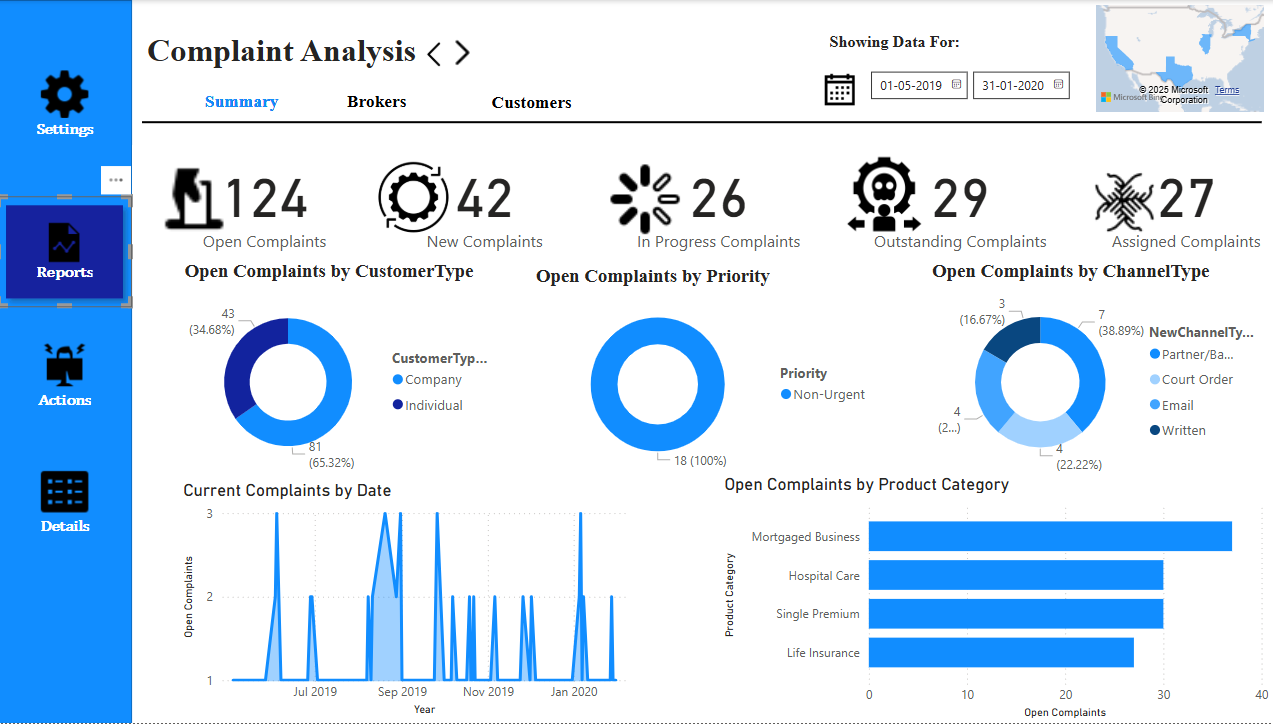

Layout of this report page (visuals, bound fields, positions):
{"tool":"powerbi","page":{"name":"Reports","canvas":[1280,720],"ordinal":0},"visuals":[{"type":"shape","box":[9.6,0,134.5,720.4],"z":0},{"type":"actionButton","title":"Customers","box":[465.2,82.4,153.7,41.2],"z":0,"group":"g1"},{"type":"textbox","box":[153.7,26.1,289.5,64.5],"z":1000},{"type":"actionButton","title":"Brokers","box":[311.5,81,153.7,41.2],"z":1000,"group":"g1"},{"type":"textbox","box":[834.1,27.1,202.9,45.1],"z":2000},{"type":"actionButton","title":"Summary","box":[177,81,153.7,41.2],"z":2000,"group":"g1"},{"type":"actionButton","title":"Summary","box":[177,81,153.7,41.2],"z":2000,"group":"g2"},{"type":"slicer","fields":{"Values":["Sheet1.ComplaintDate"]},"box":[866.8,60.9,231.1,50.7],"z":3000},{"type":"shape","box":[154.3,110,1114.3,24.3],"z":4000},{"type":"card","fields":{"Values":["Sheet1.Open Complaints"]},"box":[144.3,144.3,264.3,114.3],"z":5000},{"type":"card","fields":{"Values":["Sheet1.New Complaints"]},"box":[362.9,144.3,264.3,114.3],"z":6000},{"type":"card","fields":{"Values":["Sheet1.In Progress Complaints"]},"box":[627.1,144.3,202.9,114.3],"z":7000},{"type":"card","fields":{"Values":["Sheet1.Outstanding Complaints"]},"box":[874.3,144.3,188.6,114.3],"z":8000},{"type":"card","fields":{"Values":["Sheet1.Assigned Complaints"]},"box":[1107.1,144.3,172.9,114.3],"z":9000},{"type":"donutChart","title":"Open Complaints by CustomerType","fields":{"Y":["Sheet1.Open Complaints"],"Category":["Sheet1.CustomerType (groups)"]},"box":[191.4,258.6,318.6,222.9],"z":10000},{"type":"donutChart","title":"Open Complaints by Priority","fields":{"Y":["Sheet1.Open Complaints"],"Category":["Sheet1.Priority"]},"box":[541.4,264.3,347.1,217.1],"z":11000},{"type":"donutChart","title":"Open Complaints by ChannelType","fields":{"Y":["Sheet1.Open Complaints"],"Category":["Sheet1.NewChannelType"]},"box":[935.7,258.6,332.9,222.9],"z":12000},{"type":"clusteredBarChart","fields":{"Category":["Sheet1.Product Category"],"Y":["Sheet1.Open Complaints"]},"box":[728.6,472,551.6,248.4],"z":13000},{"type":"filledMap","fields":{"Category":["Sheet1.State"]},"box":[1097.8,0,178.1,116.1],"z":14000},{"type":"areaChart","title":"Current Complaints by Date","fields":{"Category":["Sheet1.ComplaintDate.Variation.Date Hierarchy.Year","Sheet1.ComplaintDate.Variation.Date Hierarchy.Quarter","Sheet1.ComplaintDate.Variation.Date Hierarchy.Month","Sheet1.ComplaintDate.Variation.Date Hierarchy.Day"],"Y":["Sheet1.Open Complaints"]},"box":[190.6,477.2,464.7,239.3],"z":15000},{"type":"group","id":"g1","title":"inactive button","box":[177,81,441.9,42.5],"z":16000},{"type":"group","id":"g2","title":"active button","box":[177,81,440.5,41.2],"z":17000},{"type":"image","box":[1087.2,160,90.3,82.1],"z":18000},{"type":"image","box":[153.8,160,98.5,82.1],"z":19000},{"type":"image","box":[605.1,153.8,100.5,88.2],"z":20000},{"type":"image","box":[821.7,63.1,53,53],"z":21000},{"type":"image","box":[841,149.7,104.6,88.2],"z":22000},{"type":"image","box":[363.1,153.8,123.1,84.1],"z":23000},{"type":"image","box":[424,35.7,41.2,36],"z":24000},{"type":"image","box":[454.2,32.9,38.4,39.8],"z":25000},{"type":"actionButton","box":[10,47.3,134.3,110.7],"z":37000},{"type":"actionButton","box":[10,174.2,134.3,110.7],"z":38000},{"type":"actionButton","box":[10,317.2,134.3,110.7],"z":39000},{"type":"actionButton","box":[10,442.8,134.3,110.7],"z":40000}]}

Visuals, with their boxes on the page's 1280x720 design canvas (x1, y1, x2, y2). These are canvas units, not pixel positions in the 1273x724 screenshot, which may show the page scaled, cropped or inside an application window:
shape: {"left": 10, "top": 0, "right": 144, "bottom": 720}
"Customers" actionButton: {"left": 465, "top": 82, "right": 619, "bottom": 124}
textbox: {"left": 154, "top": 26, "right": 443, "bottom": 91}
"Brokers" actionButton: {"left": 312, "top": 81, "right": 465, "bottom": 122}
textbox: {"left": 834, "top": 27, "right": 1037, "bottom": 72}
"Summary" actionButton: {"left": 177, "top": 81, "right": 331, "bottom": 122}
"Summary" actionButton: {"left": 177, "top": 81, "right": 331, "bottom": 122}
slicer - Sheet1.ComplaintDate: {"left": 867, "top": 61, "right": 1098, "bottom": 112}
shape: {"left": 154, "top": 110, "right": 1269, "bottom": 134}
card - Sheet1.Open Complaints: {"left": 144, "top": 144, "right": 409, "bottom": 259}
card - Sheet1.New Complaints: {"left": 363, "top": 144, "right": 627, "bottom": 259}
card - Sheet1.In Progress Complaints: {"left": 627, "top": 144, "right": 830, "bottom": 259}
card - Sheet1.Outstanding Complaints: {"left": 874, "top": 144, "right": 1063, "bottom": 259}
card - Sheet1.Assigned Complaints: {"left": 1107, "top": 144, "right": 1280, "bottom": 259}
"Open Complaints by CustomerType" donutChart: {"left": 191, "top": 259, "right": 510, "bottom": 482}
"Open Complaints by Priority" donutChart: {"left": 541, "top": 264, "right": 888, "bottom": 481}
"Open Complaints by ChannelType" donutChart: {"left": 936, "top": 259, "right": 1269, "bottom": 482}
clusteredBarChart - Sheet1.Product Category x Sheet1.Open Complaints: {"left": 729, "top": 472, "right": 1280, "bottom": 720}
filledMap - Sheet1.State: {"left": 1098, "top": 0, "right": 1276, "bottom": 116}
"Current Complaints by Date" areaChart: {"left": 191, "top": 477, "right": 655, "bottom": 716}
"inactive button" group: {"left": 177, "top": 81, "right": 619, "bottom": 124}
"active button" group: {"left": 177, "top": 81, "right": 618, "bottom": 122}
image: {"left": 1087, "top": 160, "right": 1178, "bottom": 242}
image: {"left": 154, "top": 160, "right": 252, "bottom": 242}
image: {"left": 605, "top": 154, "right": 706, "bottom": 242}
image: {"left": 822, "top": 63, "right": 875, "bottom": 116}
image: {"left": 841, "top": 150, "right": 946, "bottom": 238}
image: {"left": 363, "top": 154, "right": 486, "bottom": 238}
image: {"left": 424, "top": 36, "right": 465, "bottom": 72}
image: {"left": 454, "top": 33, "right": 493, "bottom": 73}
actionButton: {"left": 10, "top": 47, "right": 144, "bottom": 158}
actionButton: {"left": 10, "top": 174, "right": 144, "bottom": 285}
actionButton: {"left": 10, "top": 317, "right": 144, "bottom": 428}
actionButton: {"left": 10, "top": 443, "right": 144, "bottom": 554}
